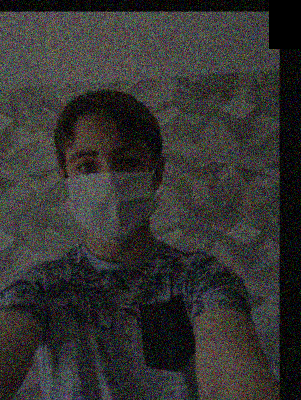with_mask: (64, 138, 157, 245)
